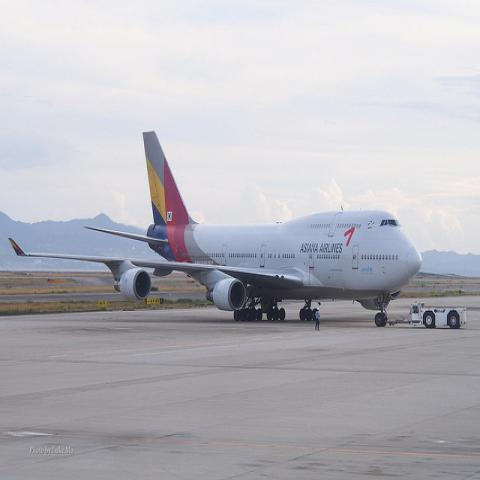truck: (408, 301, 467, 330)
